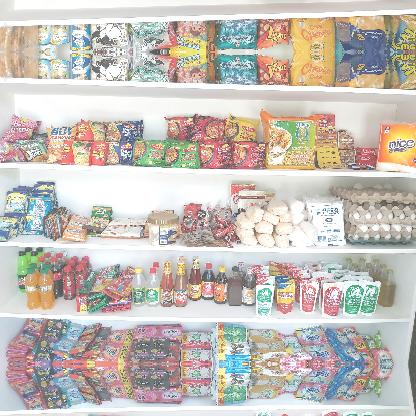Lady-s-Choice: (148, 212, 178, 246)
